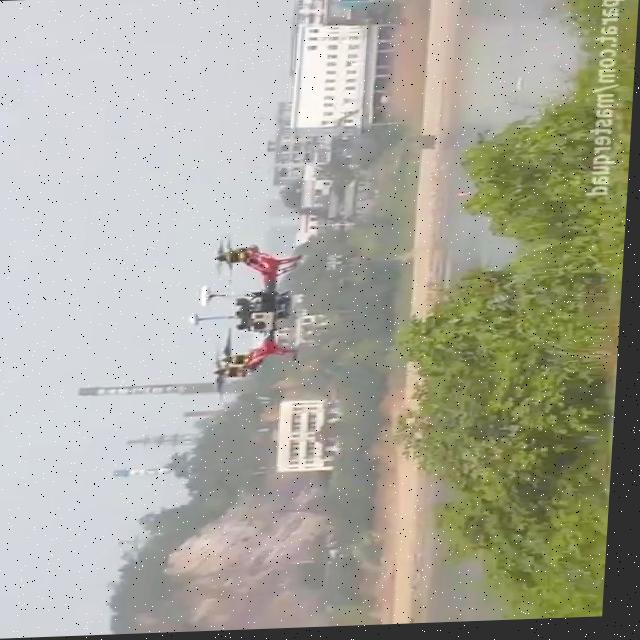drone: (184, 231, 310, 404)
